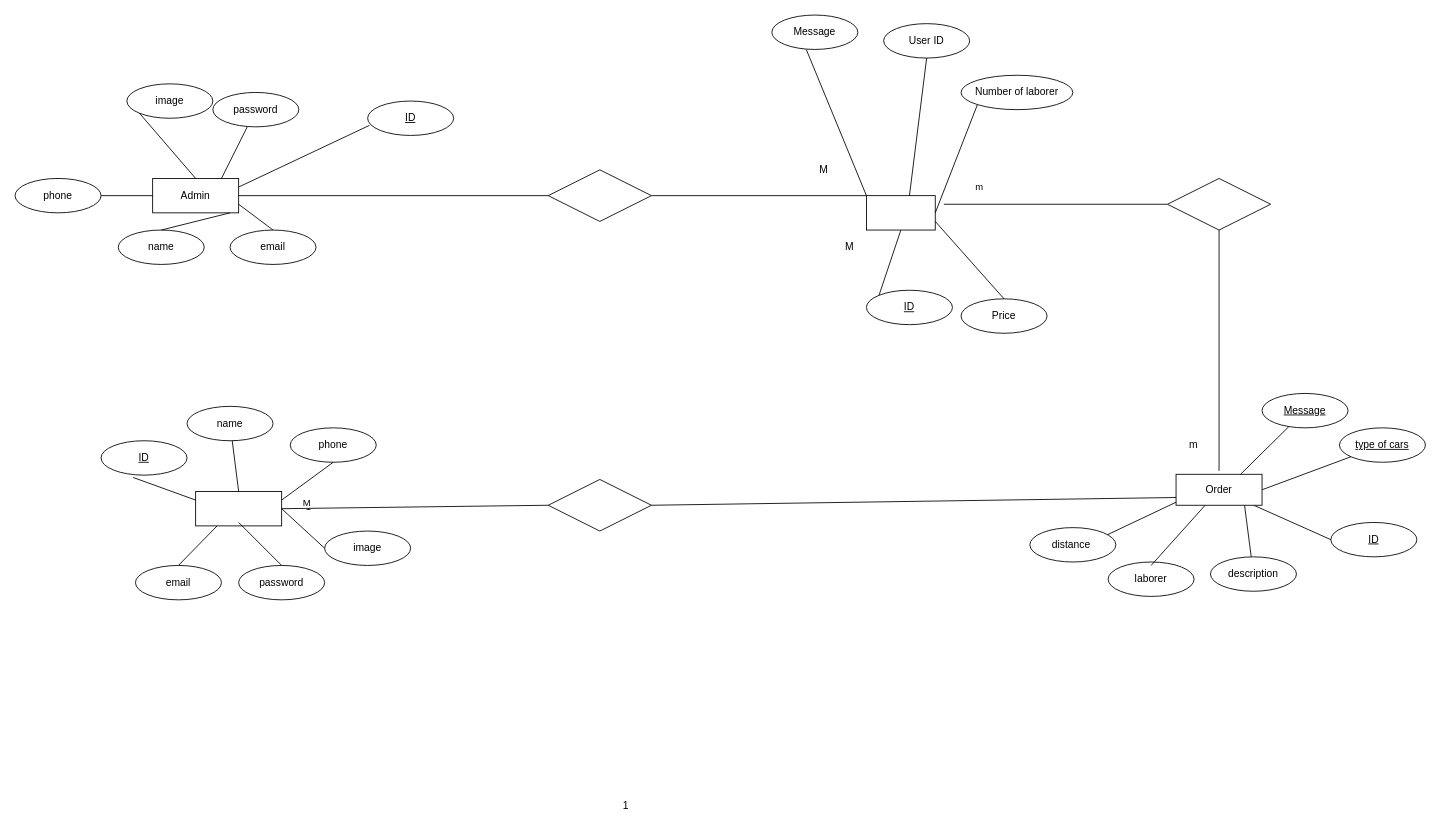
Image size: 1441x830. Some labels were removed from this diagram. The centre of each missing label's shape, as x and y in pixels:
"booking" goes at (x=599, y=505).
"Customer" goes at (x=238, y=508).
"Order Answer" goes at (x=900, y=212).
"Set" goes at (x=599, y=195).
"signed" goes at (x=1219, y=204).
